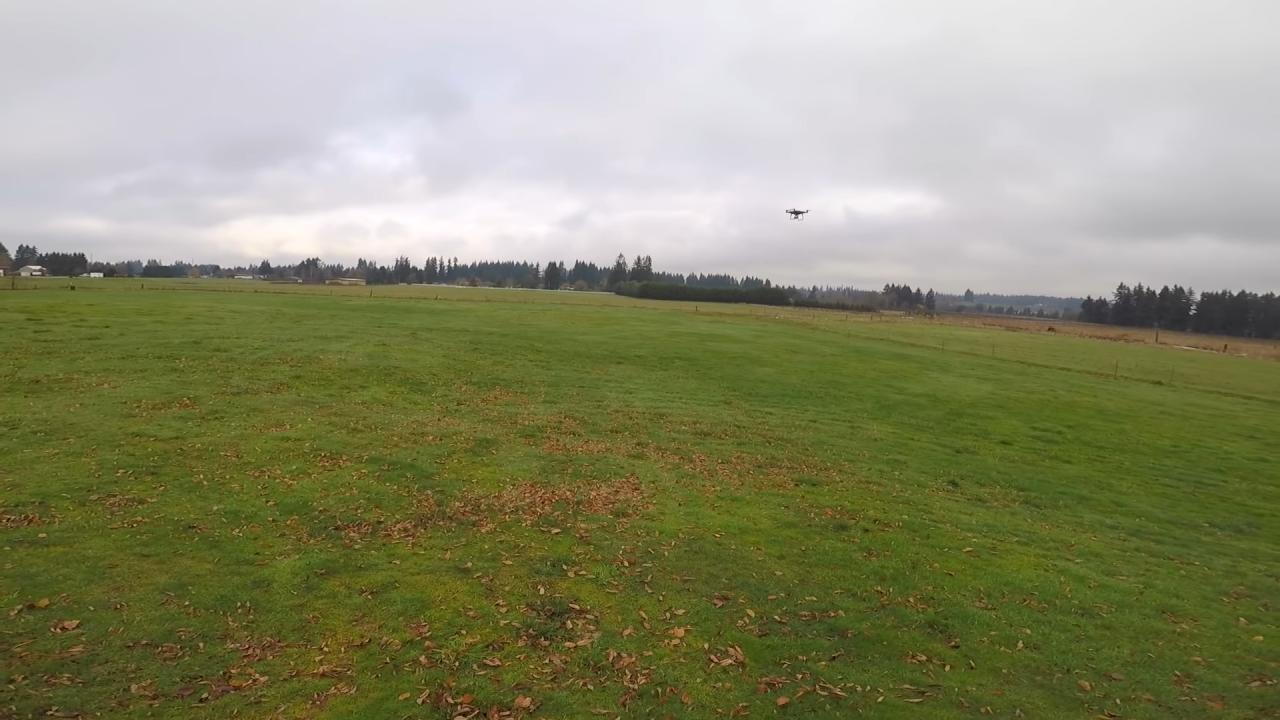Drone: (780, 200, 816, 227)
